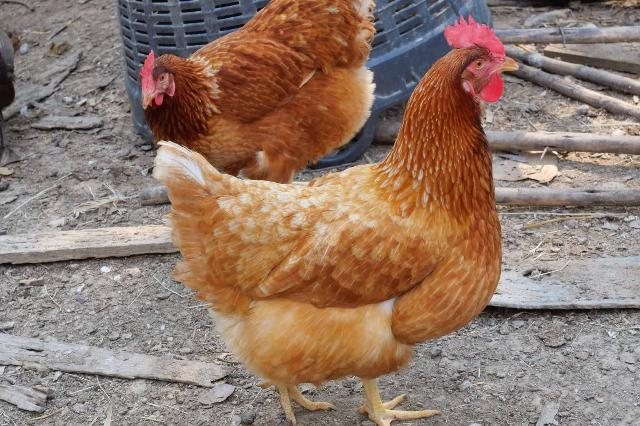Chicken: (151, 14, 518, 426), (142, 0, 377, 186)
